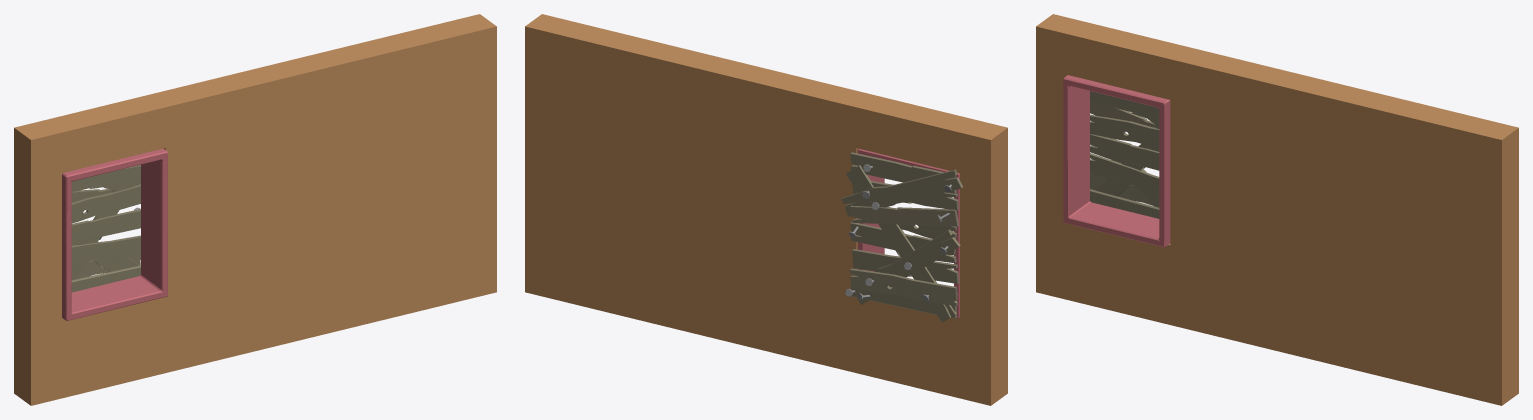
Rendered from LeftWoodPlankWindow.fbx.
3 renders of one model, left to right at view 1: azimuth 30°, elevation 25°; view 2: azimuth 150°, elevation 25°; view 3: azimuth 330°, elevation 25°, orthographic.
Parts seen in each view (by area): view 1: pCube36; view 2: pCube36; view 3: pCube36.
Part boxes in pixels (x1,y1,x2,y2): pCube36: [14, 14, 496, 405]; pCube36: [525, 14, 1007, 405]; pCube36: [1036, 14, 1518, 405].
Bounding box in the file's own units: 8.84 × 4.82 × 1.11.
